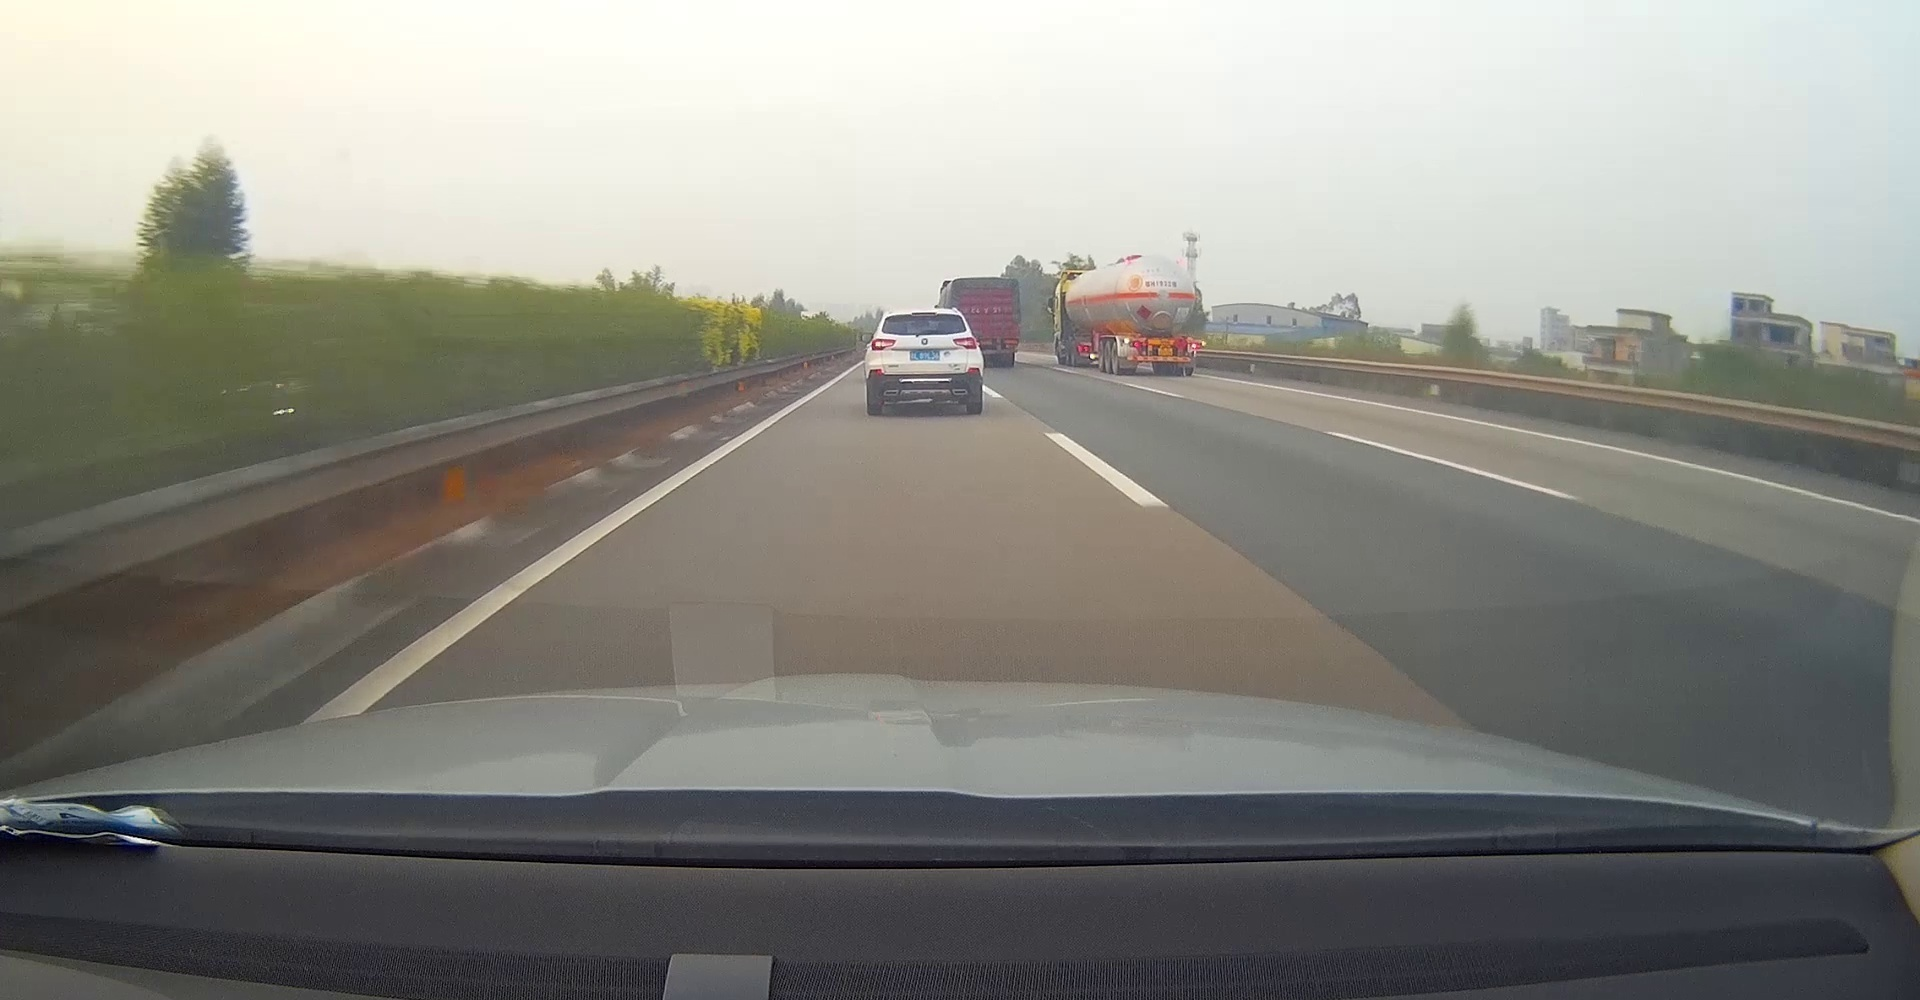L_light: (871, 338, 897, 350), (1130, 341, 1145, 346)
R_light: (952, 338, 977, 349), (1190, 341, 1203, 350)
T_light: (912, 312, 936, 316), (1161, 338, 1171, 341)
day-no: (865, 310, 983, 415), (1125, 338, 1205, 377)
